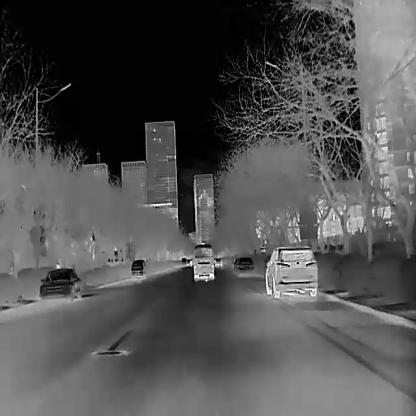bus: (191, 243, 215, 281)
car: (263, 245, 317, 298), (38, 267, 80, 300), (234, 256, 254, 275), (130, 258, 146, 279), (213, 256, 222, 267)
